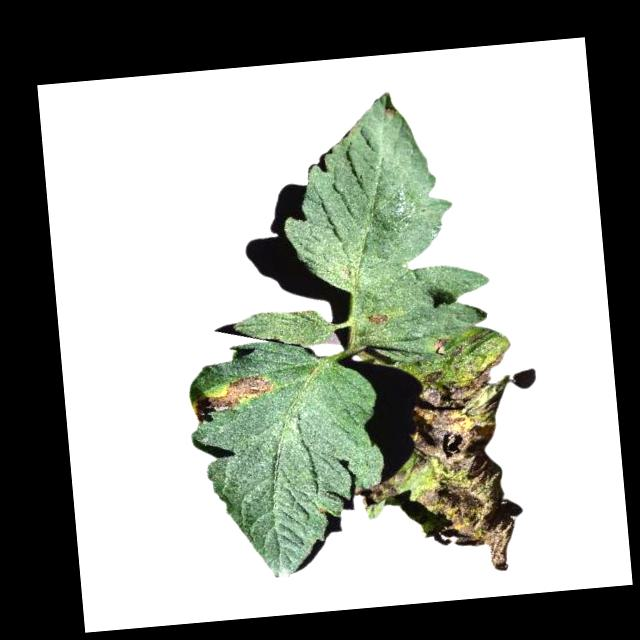Early_blight: (343, 333, 527, 584), (184, 369, 278, 429), (366, 313, 389, 326)
